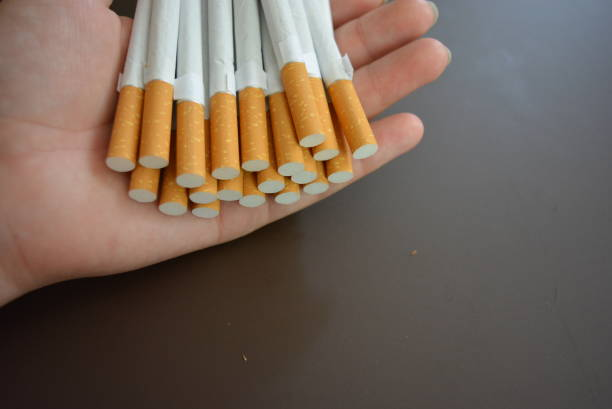cigarette: (302, 0, 379, 160), (259, 0, 327, 148), (104, 0, 153, 172), (288, 0, 340, 162), (261, 0, 305, 175), (138, 0, 180, 170), (231, 0, 270, 172), (207, 0, 241, 180), (174, 0, 206, 188), (321, 76, 355, 184), (158, 165, 188, 218), (126, 166, 162, 205), (239, 168, 267, 208), (290, 148, 318, 185), (188, 175, 219, 204), (303, 162, 331, 194), (258, 166, 286, 195), (273, 178, 301, 206), (217, 177, 244, 203), (190, 198, 221, 219)
